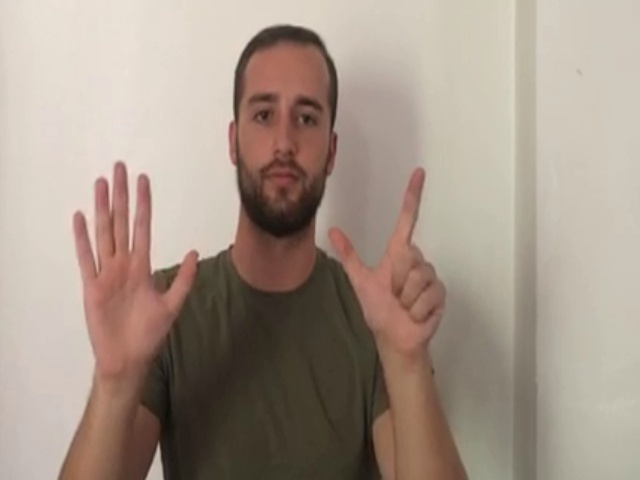Pet i Sedumnaeset: (66, 155, 454, 378)
